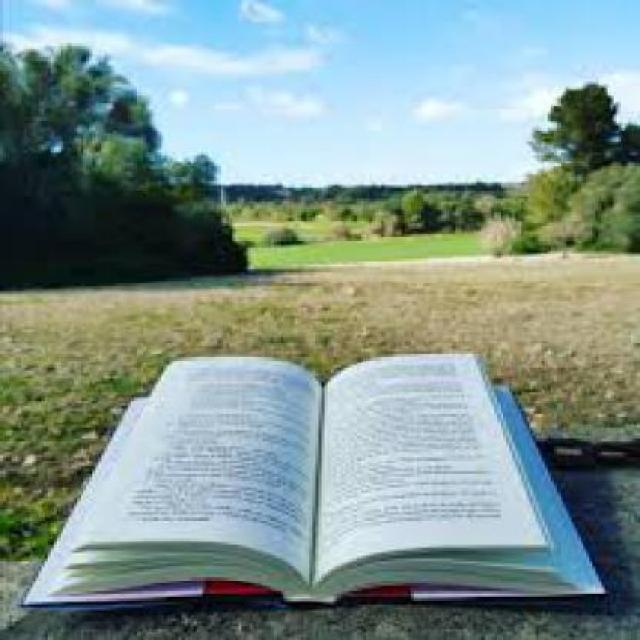book: (17, 327, 636, 640)
